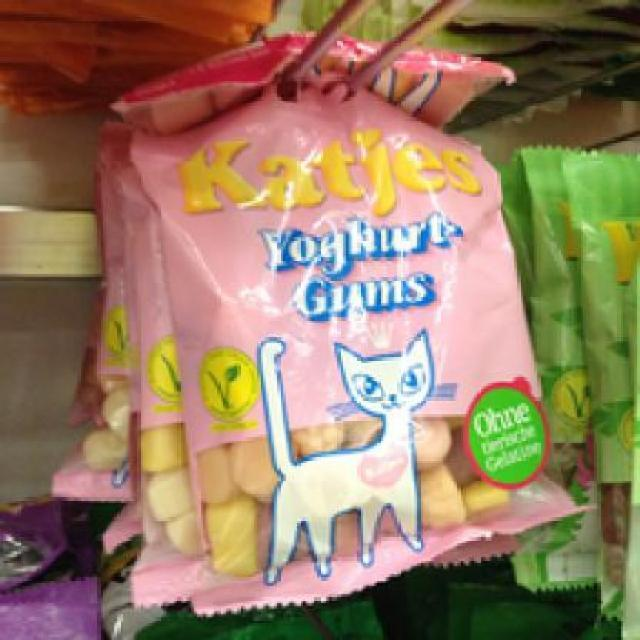Candy: (128, 77, 588, 614)
